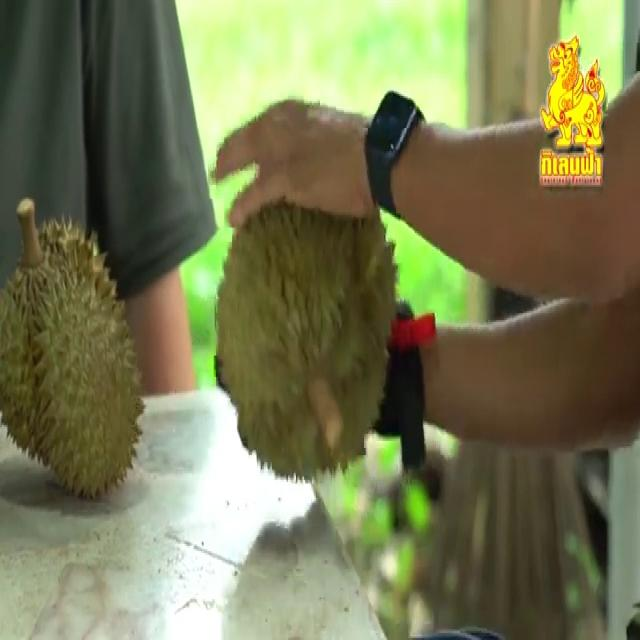durian: (206, 154, 404, 488), (2, 192, 148, 509)
